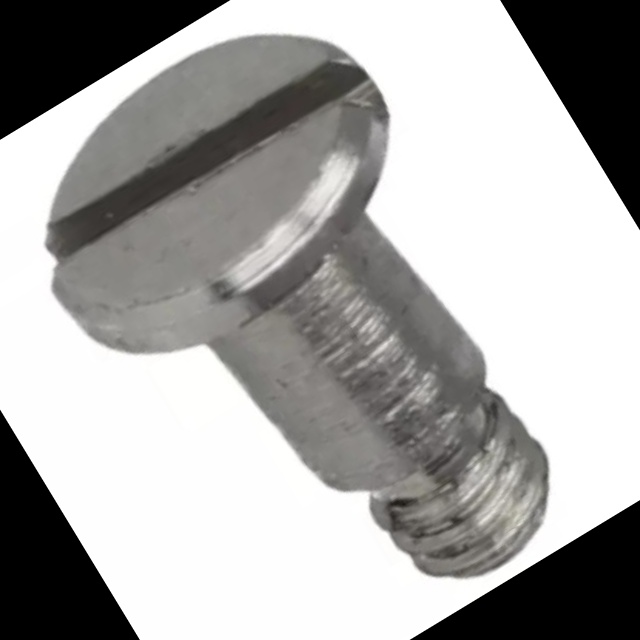duz: (0, 0, 451, 404)
